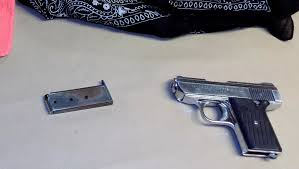gun: (167, 73, 286, 162)
